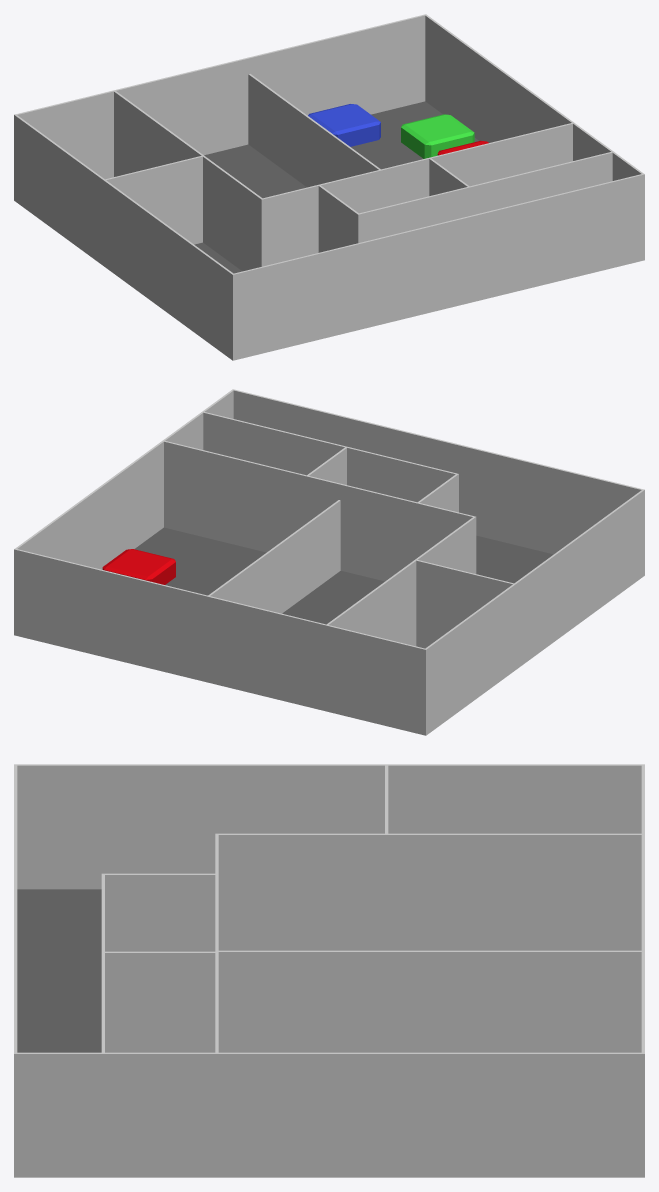
File: Factory_1.glb
3 views of the same model, one above another, from view 1: azimuth 30°, elevation 25°; view 2: azimuth 150°, elevation 25°; view 3: azimuth 270°, elevation 25° (orthographic). The views are drawn at different scales.
Parts seen in each view (by area): view 1: WallAndFloor_1, GreenBox, BlueBox; view 2: WallAndFloor_1, RedBox; view 3: WallAndFloor_1.
Boxes of the visible parts, x1=… form: WallAndFloor_1: x1=14, y1=14, x2=644, y2=360; GreenBox: x1=401, y1=114, x2=474, y2=158; BlueBox: x1=308, y1=104, x2=380, y2=146; WallAndFloor_1: x1=14, y1=389, x2=644, y2=735; RedBox: x1=102, y1=549, x2=175, y2=584; WallAndFloor_1: x1=14, y1=764, x2=644, y2=1177.
Size of the model in its own units: 166 by 33 by 152.
